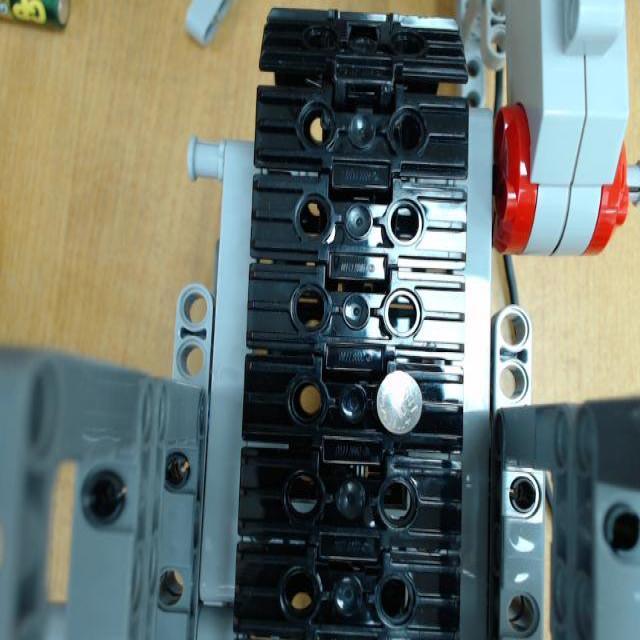COIN: (376, 371, 424, 436)
